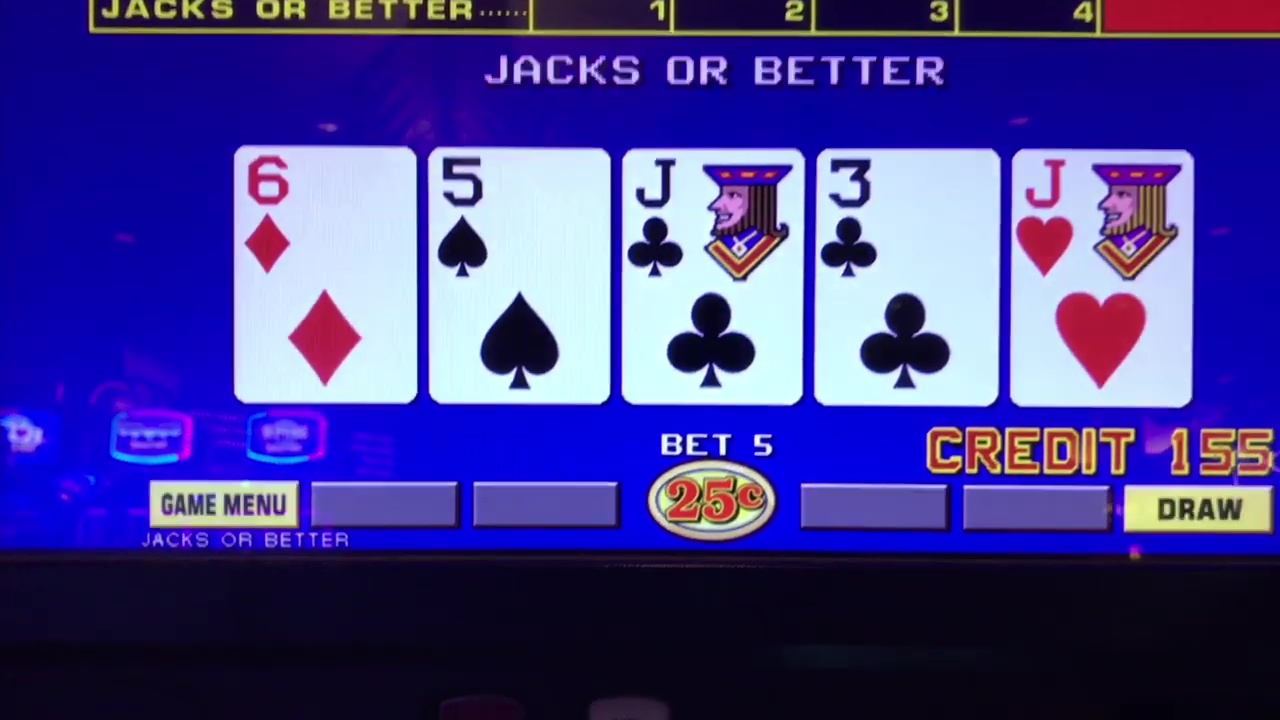C3: (821, 157, 986, 402)
CJ: (630, 156, 799, 404)
D6: (243, 151, 420, 397)
HJ: (1017, 156, 1187, 404)
S5: (431, 151, 601, 403)
